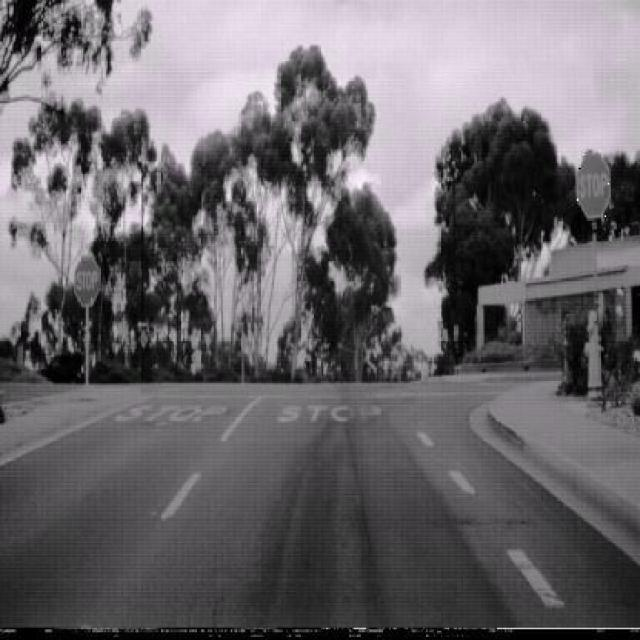stop: (575, 152, 611, 220), (74, 252, 100, 306)
